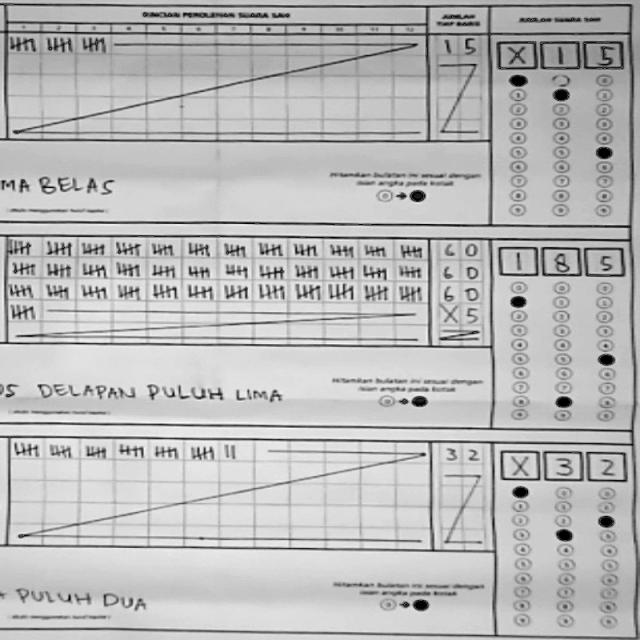Suara: (491, 32, 630, 74), (492, 239, 630, 281), (493, 443, 631, 485)
